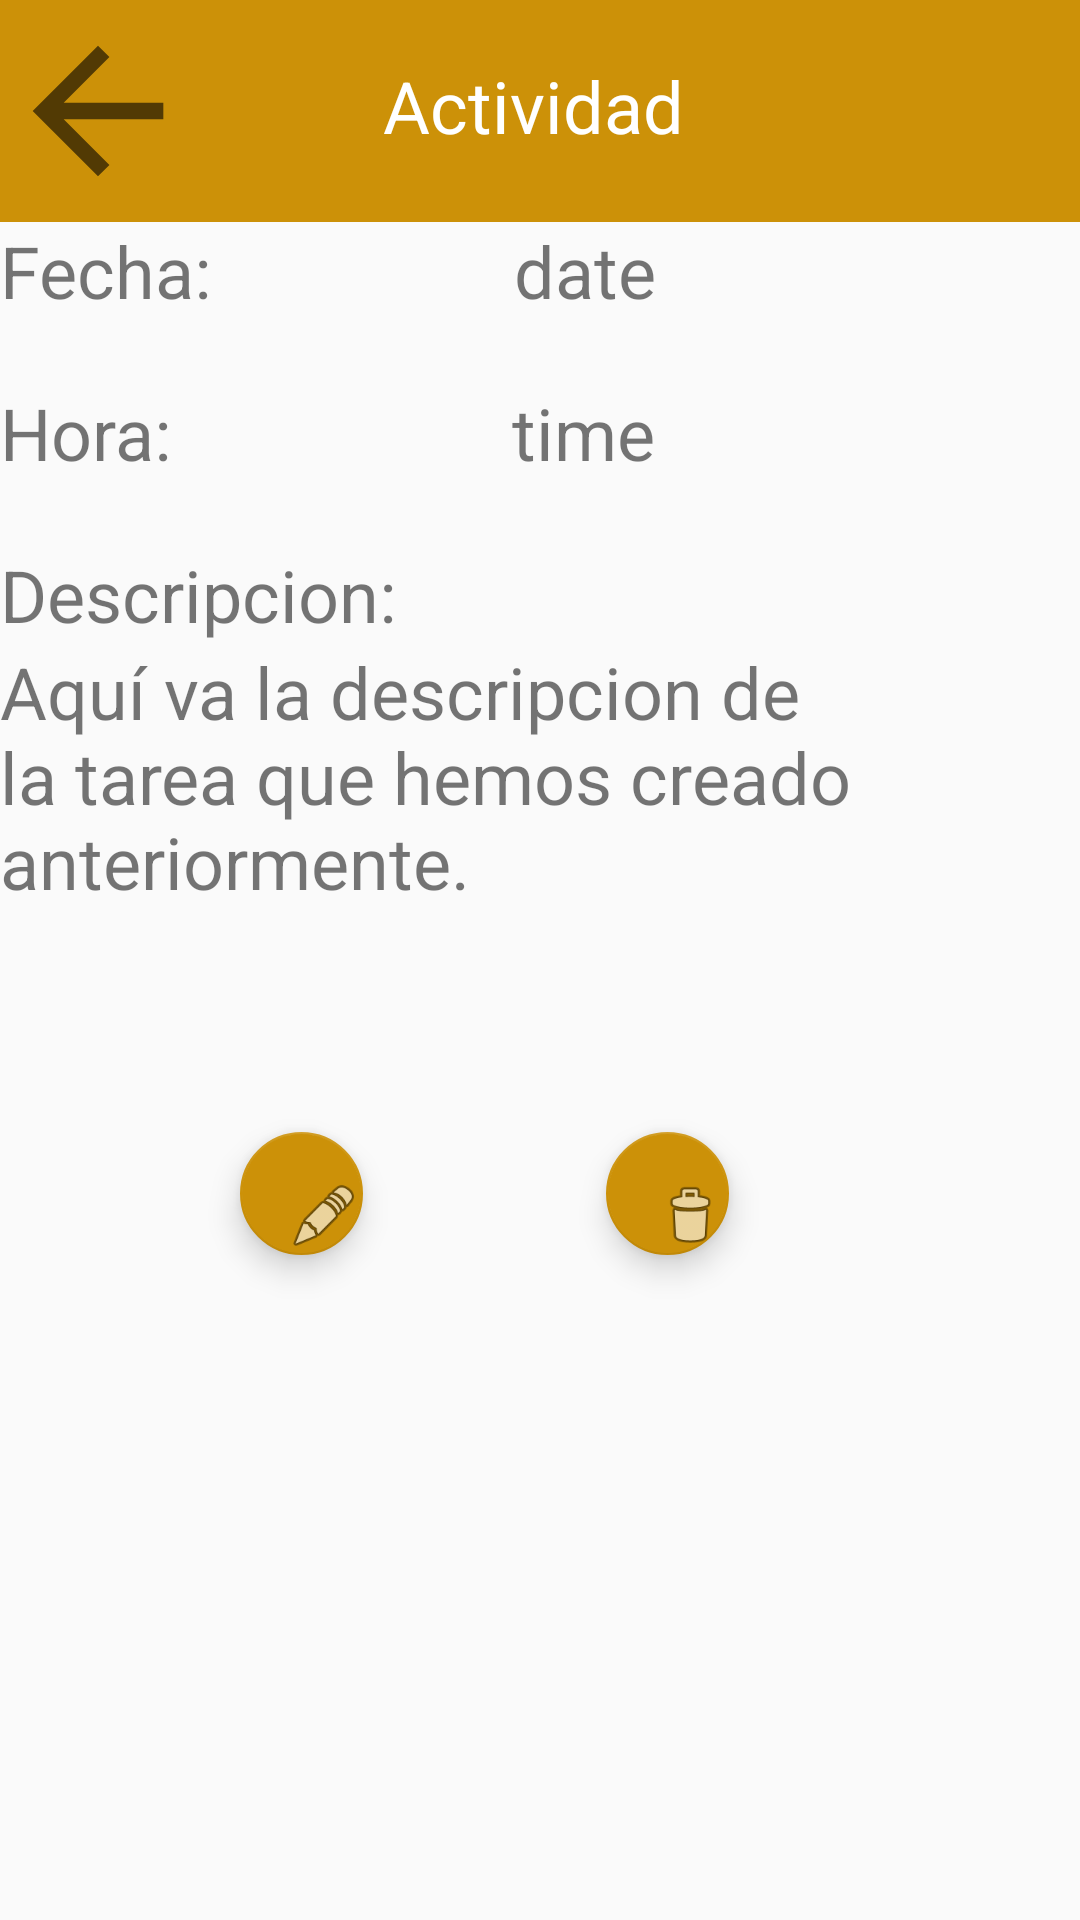

Icon click points for this 1080 × 1920 phone screenshot, format (x,y):
delete: (667,1193)
edit: (301,1193)
